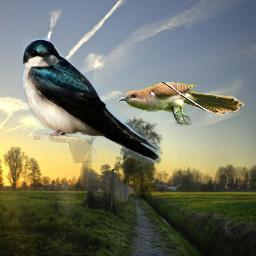Cuckoo: (118, 82, 245, 126)
Swallow: (21, 38, 161, 163)
